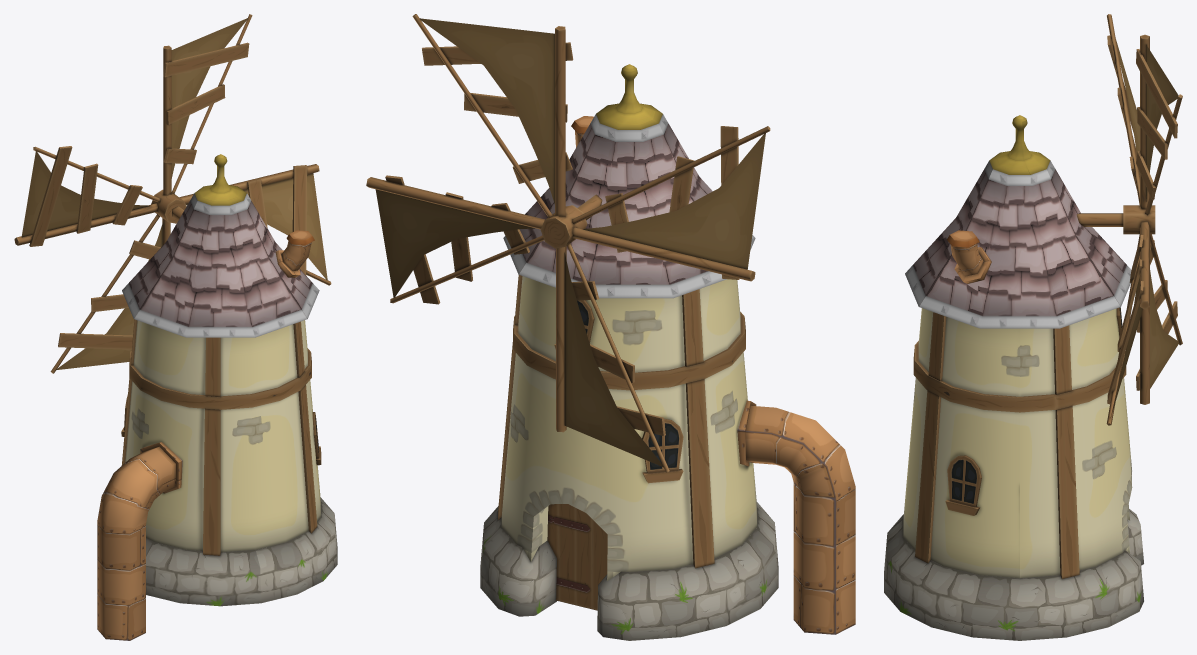
The model's file is windmill.FBX.
3 views of the same model, side by side, from view 1: azimuth 30°, elevation 25°; view 2: azimuth 150°, elevation 25°; view 3: azimuth 270°, elevation 25° (orthographic). The views are drawn at different scales.
Visible parts, largest first — view 1: windmill01; view 2: windmill01; view 3: windmill01.
Part boxes in pixels (x1,y1,x2,y2): windmill01: (14, 14, 337, 640); windmill01: (366, 14, 855, 640); windmill01: (884, 14, 1182, 640).
Size of the model in its own units: 57.32 by 42.41 by 89.9.
